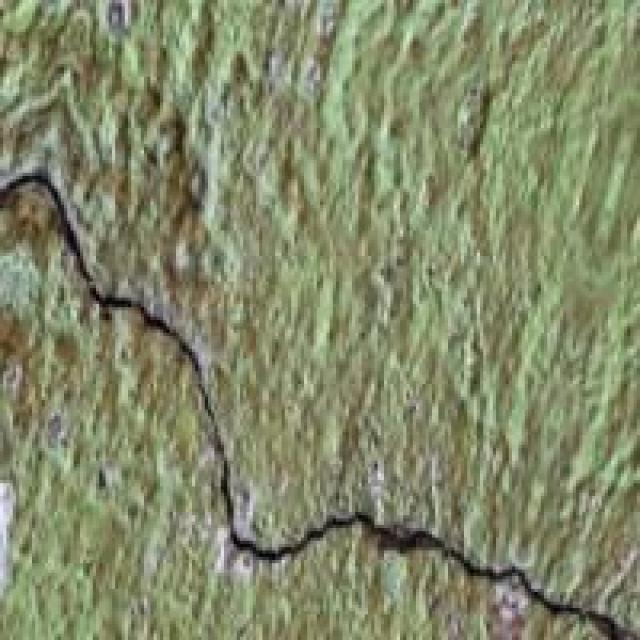Crack: (3, 144, 637, 637)
